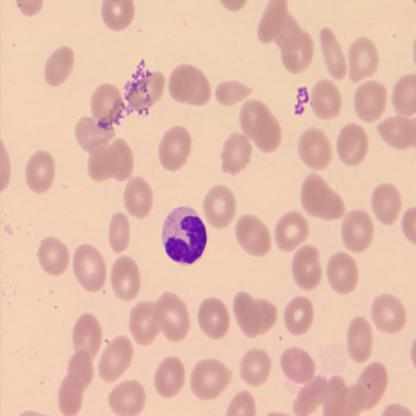Band Neutrophil: (160, 201, 210, 269)
